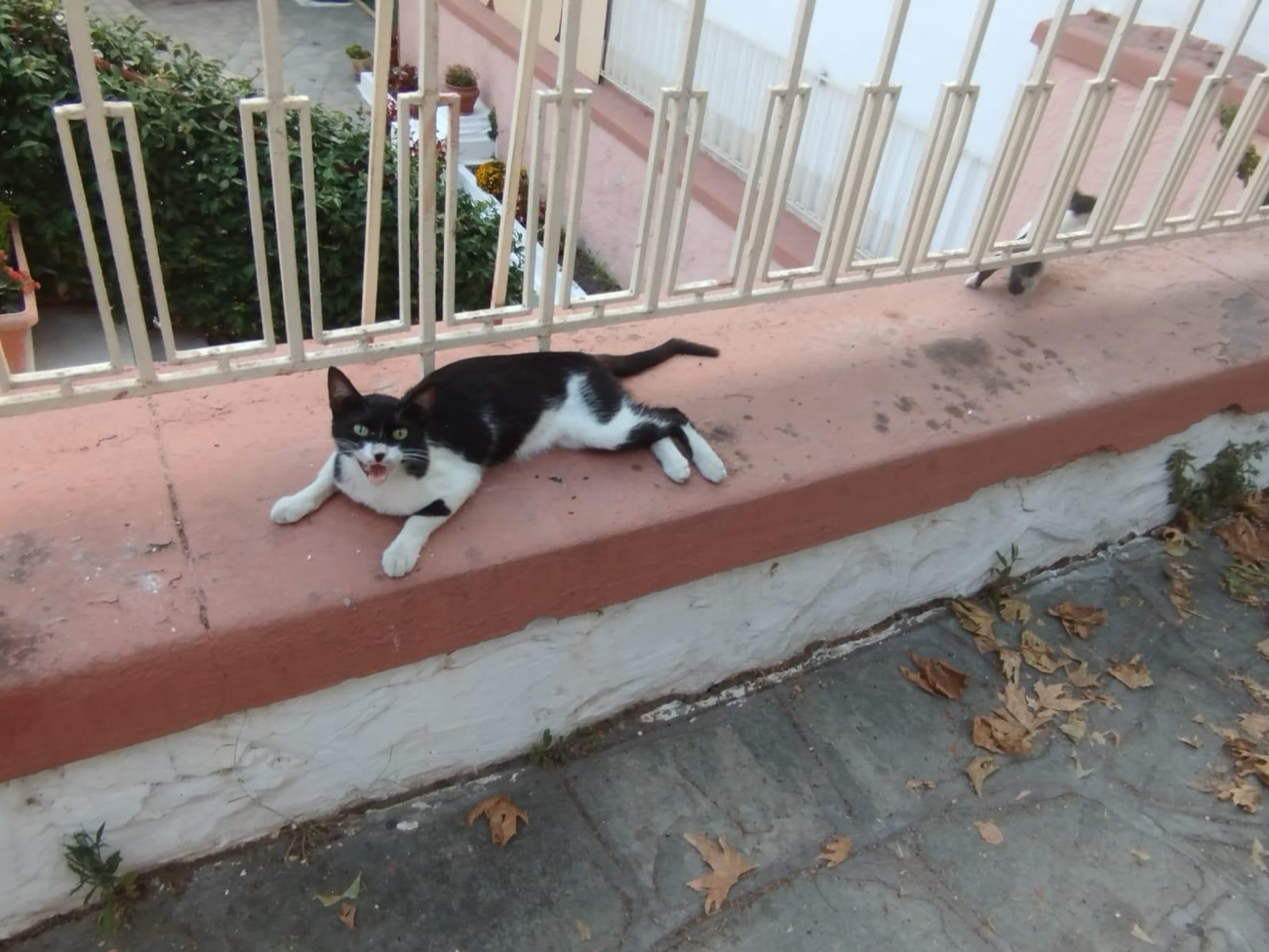macka: (271, 336, 731, 576)
